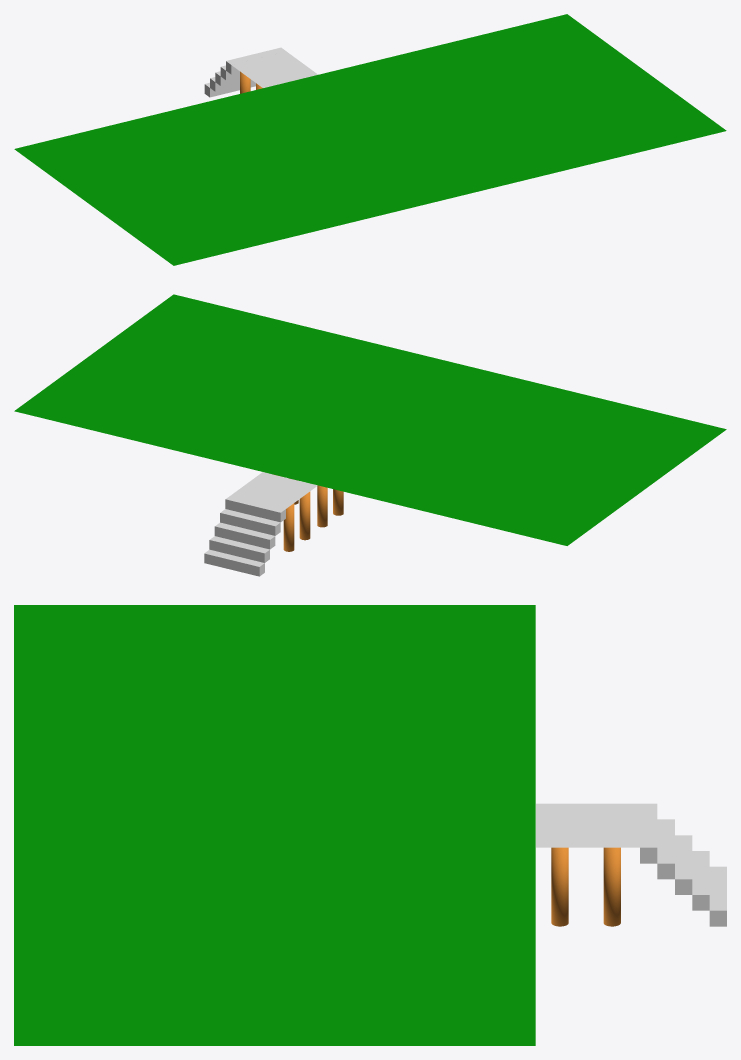
File: FloorOnePlatform.fbx
3 renders of one model, top to bottom at view 1: azimuth 30°, elevation 25°; view 2: azimuth 150°, elevation 25°; view 3: azimuth 270°, elevation 25°, orthographic. The views are drawn at different scales.
Parts seen in each view (by area): view 1: Plane.001, Plane, Cube; view 2: Plane.001, Plane, Cube.002, Cube, Cube.004, Cube.001, Cube.003, Cylinder.003, Cylinder.002; view 3: Plane.001, Plane, Cylinder.001, Cylinder, Cube.001, Cube, Cube.004, Cube.002, Cube.003.
Boxes of the visible parts, left/top/right/bottom form: Plane.001: left=14, top=14, right=726, bottom=265; Plane: left=231, top=51, right=317, bottom=87; Cube: left=226, top=47, right=285, bottom=74; Plane.001: left=14, top=294, right=726, bottom=545; Plane: left=231, top=472, right=317, bottom=508; Cube.002: left=214, top=522, right=275, bottom=549; Cube: left=225, top=495, right=285, bottom=522; Cube.004: left=204, top=549, right=264, bottom=576; Cube.001: left=220, top=509, right=280, bottom=535; Cube.003: left=209, top=536, right=269, bottom=562; Cylinder.003: left=299, top=491, right=310, bottom=540; Cylinder.002: left=283, top=503, right=294, bottom=551; Plane.001: left=14, top=605, right=535, bottom=1045; Plane: left=536, top=803, right=639, bottom=847; Cylinder.001: left=551, top=847, right=568, bottom=926; Cylinder: left=603, top=847, right=620, bottom=926; Cube.001: left=657, top=819, right=674, bottom=879; Cube: left=640, top=803, right=657, bottom=863; Cube.004: left=709, top=866, right=726, bottom=926; Cube.002: left=675, top=835, right=692, bottom=894; Cube.003: left=692, top=851, right=709, bottom=910.
Size of the model in its own units: 6000 by 501 by 4101.
